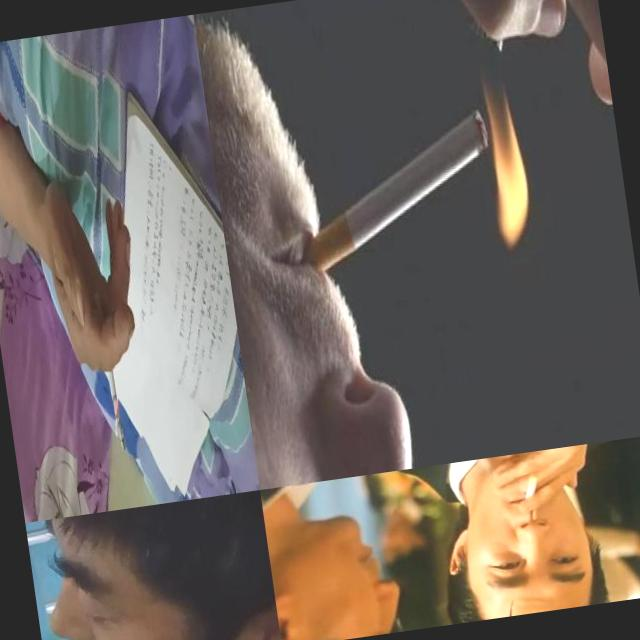cigarette: (291, 107, 504, 276), (94, 291, 126, 452), (521, 475, 540, 502)
